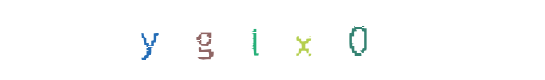0: (263, 0, 343, 80)
G: (218, 0, 298, 80)
L: (225, 0, 305, 80)
X: (232, 0, 312, 80)
Y: (165, 0, 245, 80)
